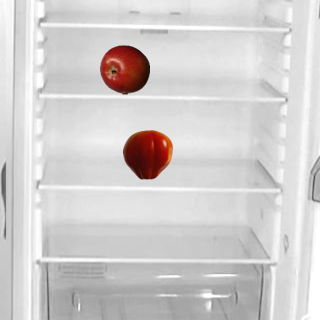Apple Braeburn: (99, 44, 149, 94)
Tomato 1: (122, 129, 172, 179)
